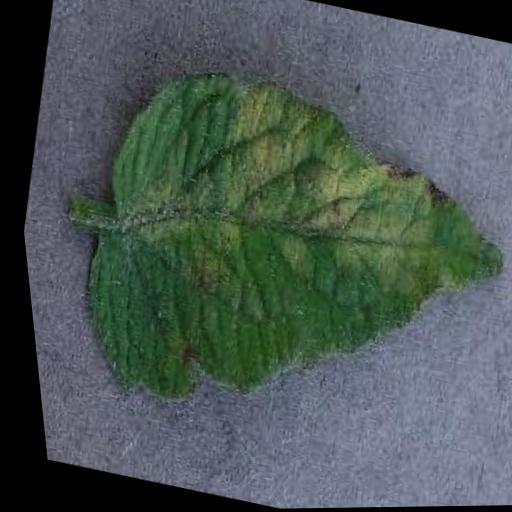Leaf Mold: (36, 42, 512, 474)
